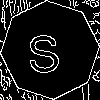S: (25, 25, 62, 74)
